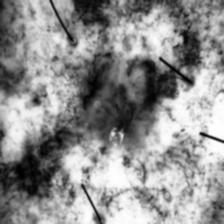Potentially Malignant Skin Tumors: (64, 47, 172, 164)
